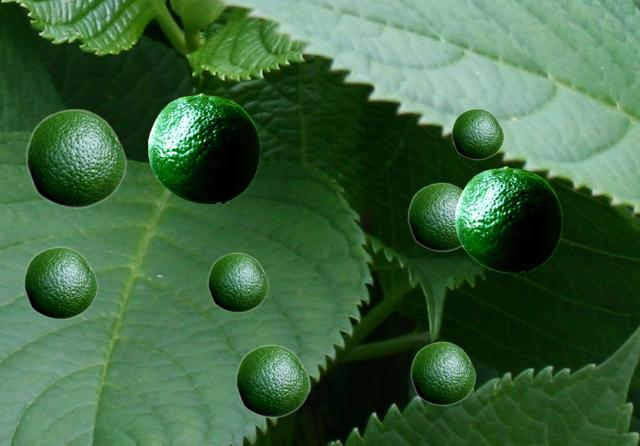calamansi: (148, 93, 259, 202), (455, 166, 561, 271), (25, 108, 126, 208), (23, 246, 97, 319), (235, 344, 309, 417), (410, 341, 475, 405), (407, 182, 462, 251), (207, 252, 268, 312), (451, 108, 503, 159)
